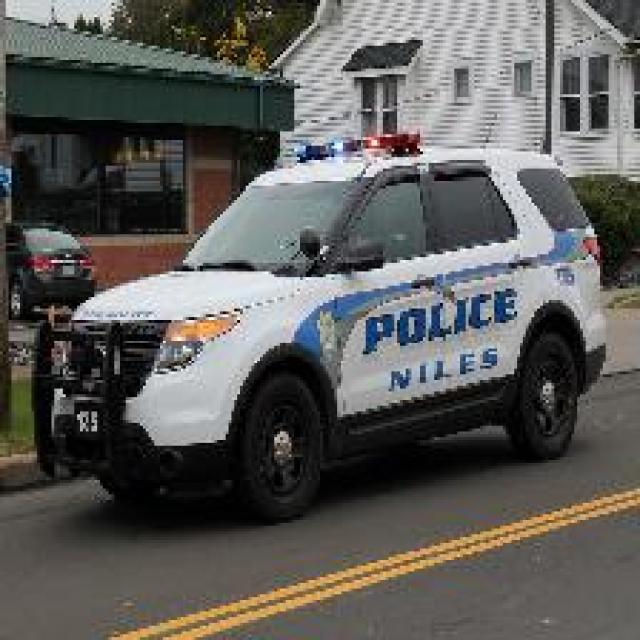Car: (3, 220, 94, 320)
Police-car: (31, 126, 608, 520)
